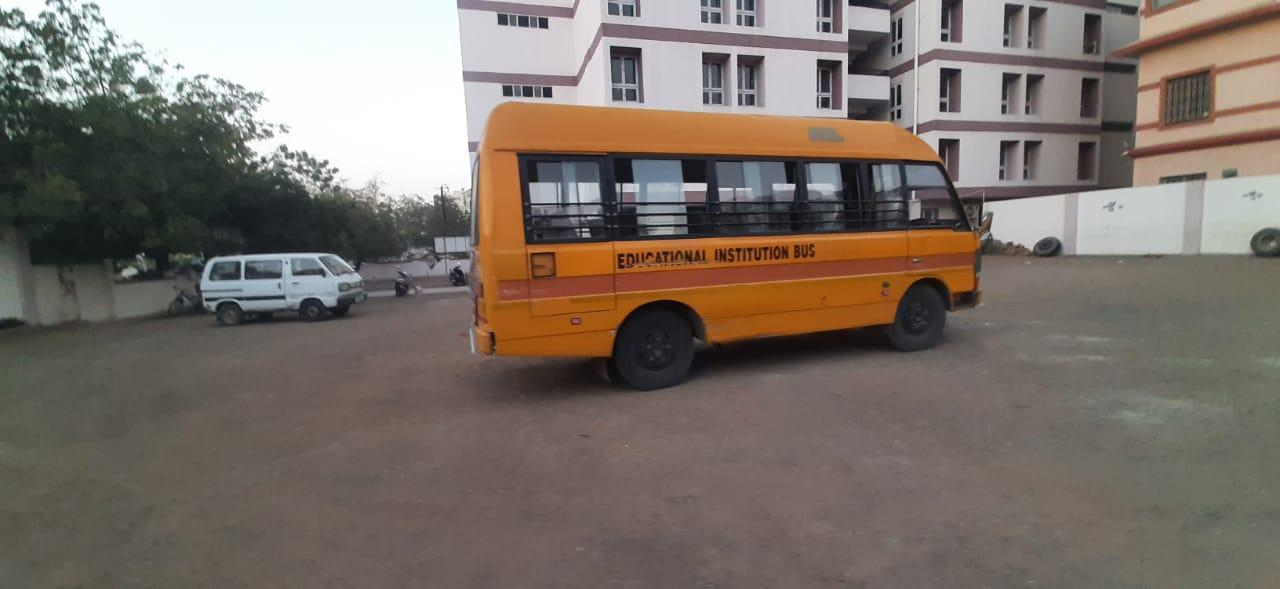Bus: (448, 83, 1020, 397)
